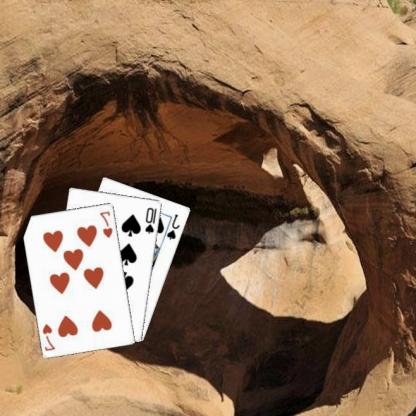10S: (144, 204, 160, 235)
7H: (99, 208, 116, 239), (42, 321, 58, 352)
JS: (166, 211, 183, 241)
